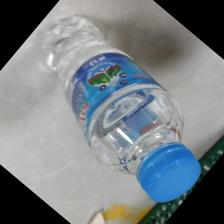Lavie: (34, 15, 205, 206)
